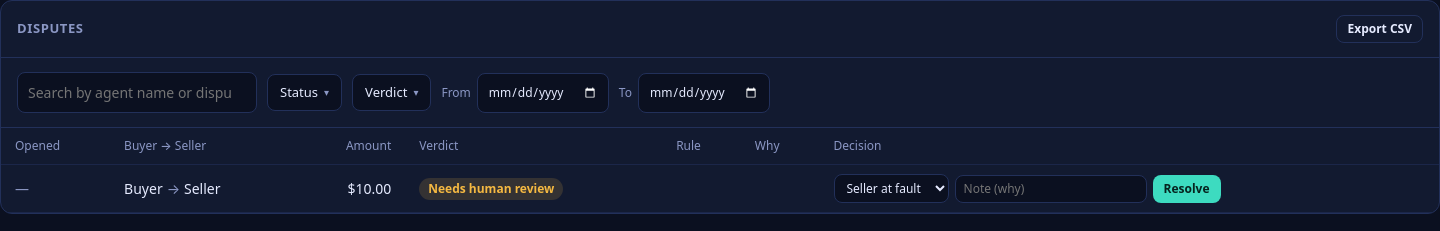
Test: DisputesPage › lets the Status and Verdict dropdowns each pick several options at once
Expected: the text "$10.00" is shown, x1=296 y1=164 x2=405 y2=212
Step 1. Click the button "Status ▾" → [305, 93], box x1=267 y1=74 x2=342 y2=111
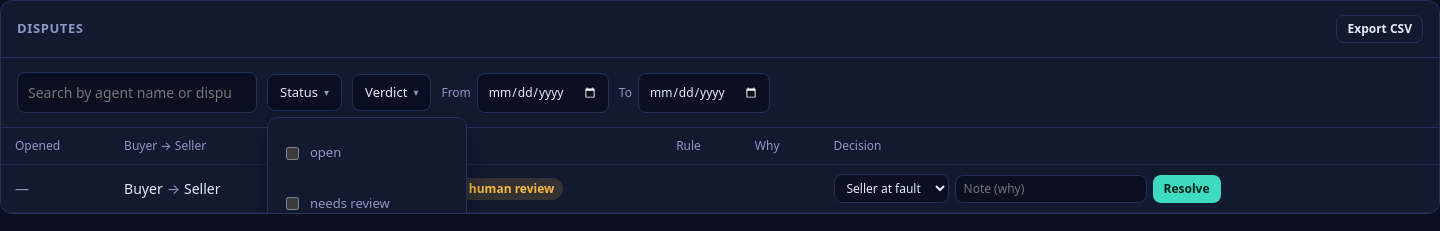
Step 2. Click the checkbox labelled "open" → [292, 153], box x1=286 y1=146 x2=299 y2=160
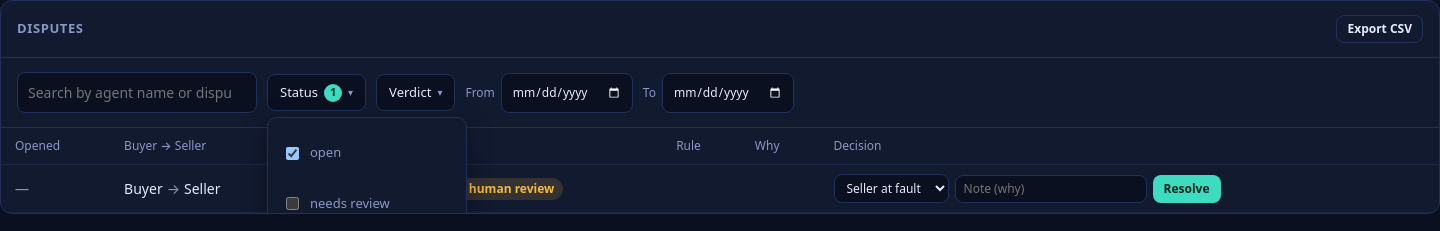
Step 3. Click the checkbox labelled "needs review" → [292, 204], box x1=286 y1=197 x2=299 y2=210
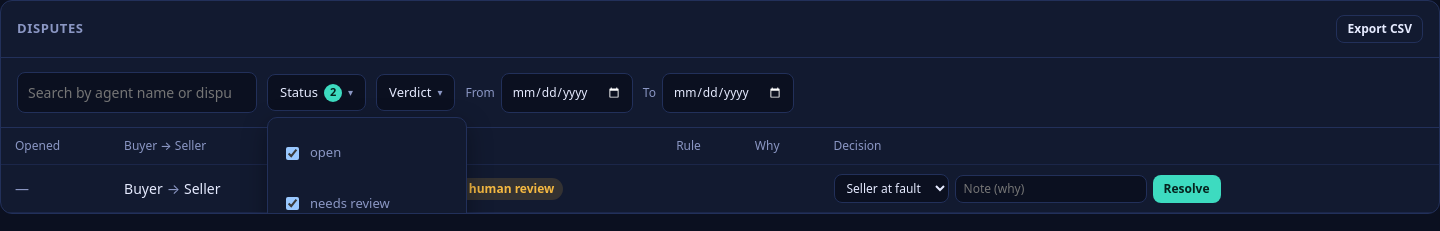
Now the button "Status 2 ▾" is shown, box x1=267 y1=74 x2=366 y2=111
